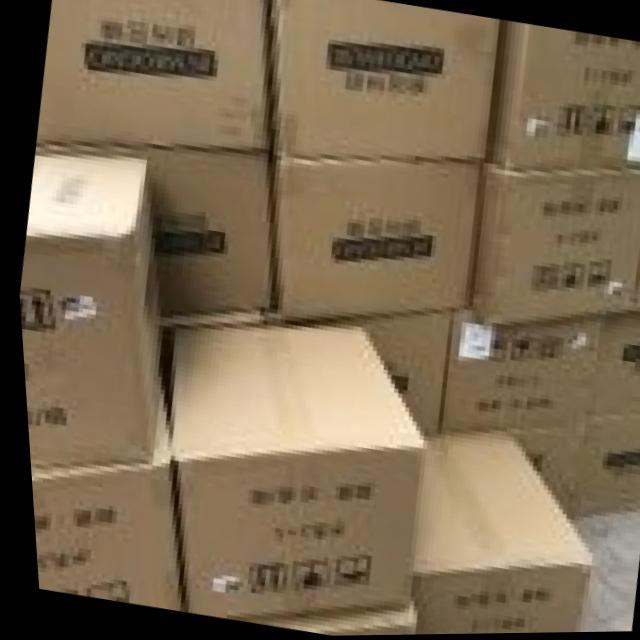box: (163, 324, 421, 620), (15, 155, 154, 469), (32, 142, 269, 317), (405, 429, 584, 636), (270, 0, 499, 160), (34, 0, 266, 150), (270, 159, 481, 319), (25, 394, 175, 612), (463, 164, 640, 328), (485, 21, 640, 172), (271, 313, 450, 437), (435, 311, 600, 431), (500, 424, 579, 526), (567, 412, 640, 521), (579, 319, 640, 420)
